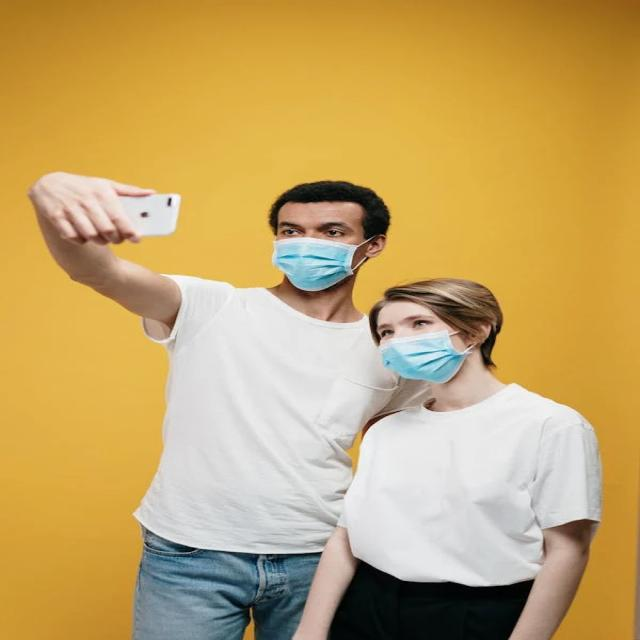mask: (352, 289, 518, 402), (248, 182, 406, 290)
